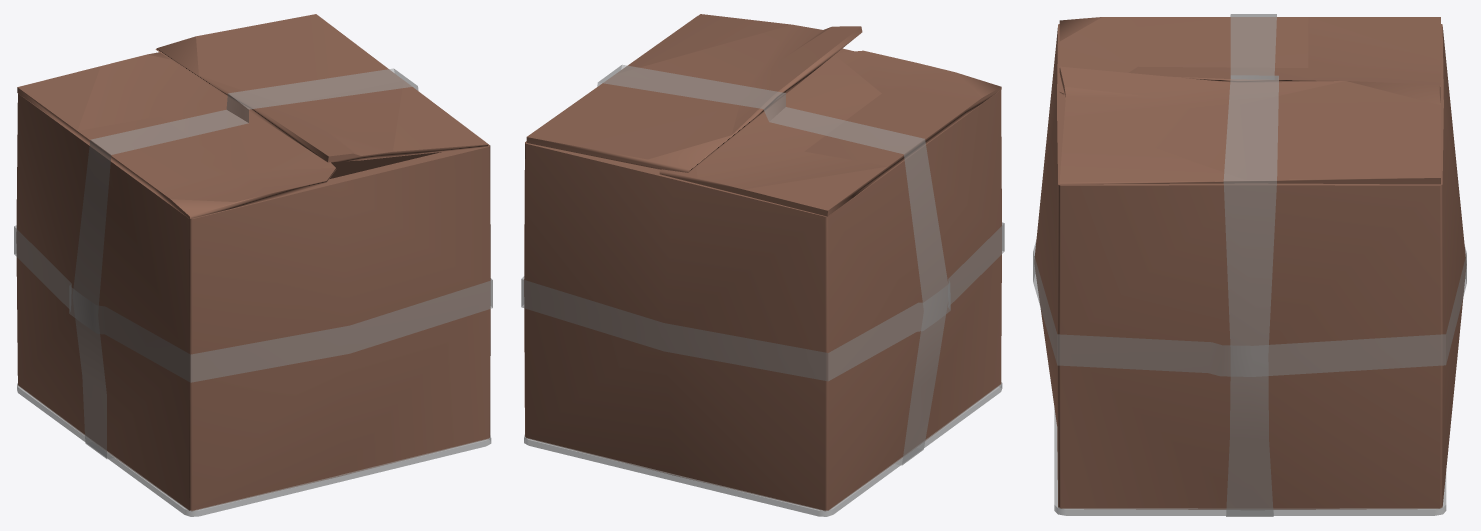
The picture shows the model from 3 angles, left to right: view 1: azimuth 30°, elevation 25°; view 2: azimuth 150°, elevation 25°; view 3: azimuth 270°, elevation 25°; orthographic projection. The views are drawn at different scales.
Visible parts, largest first — view 1: pCube1, pCube4, pCube3, pCube5, pCube6, pCube2; view 2: pCube1, pCube4, pCube3, pCube5, pCube6, pCube2; view 3: pCube1, pCube3, pCube4, pCube5, pCube6, pCube2.
Part boxes in pixels (box(x1,y1,x2,y2)): pCube1: box(16, 87, 490, 510); pCube4: box(17, 52, 336, 218); pCube3: box(155, 14, 488, 162); pCube5: box(73, 68, 418, 459); pCube6: box(14, 225, 492, 382); pCube2: box(17, 383, 491, 516); pCube1: box(524, 16, 1001, 510); pCube4: box(659, 50, 1001, 216); pCube3: box(526, 14, 862, 172); pCube5: box(597, 64, 949, 465); pCube6: box(521, 222, 1004, 381); pCube2: box(524, 382, 1002, 516); pCube1: box(1034, 24, 1466, 509); pCube3: box(1059, 66, 1440, 184); pCube4: box(1059, 17, 1440, 95); pCube5: box(1223, 14, 1278, 516); pCube6: box(1033, 241, 1466, 376); pCube2: box(1054, 408, 1446, 515).
Bounding box in the file's own units: 3.46 × 3.13 × 3.4.
